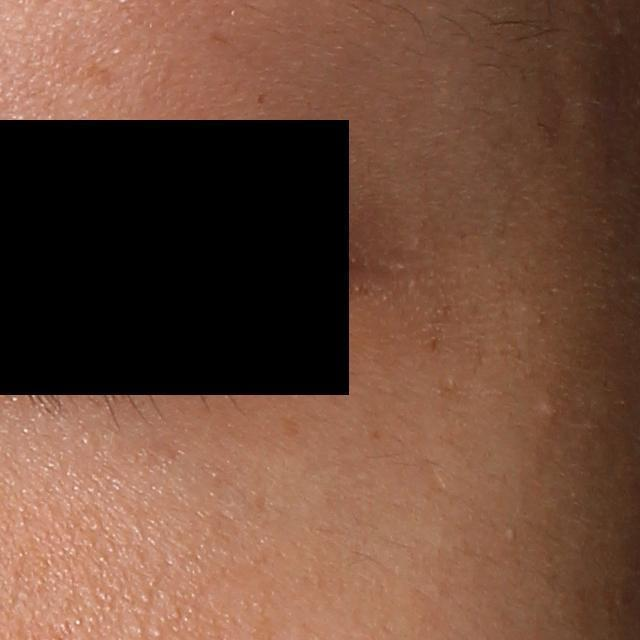comedo: (534, 392, 559, 428)
melasma: (278, 414, 303, 440), (427, 332, 441, 356)
